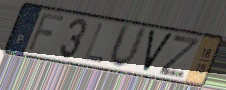3: (57, 17, 88, 61)
F: (25, 11, 67, 54)
L: (82, 21, 105, 64)
U: (107, 22, 149, 71)
V: (141, 28, 175, 75)
Z: (157, 33, 203, 80)
